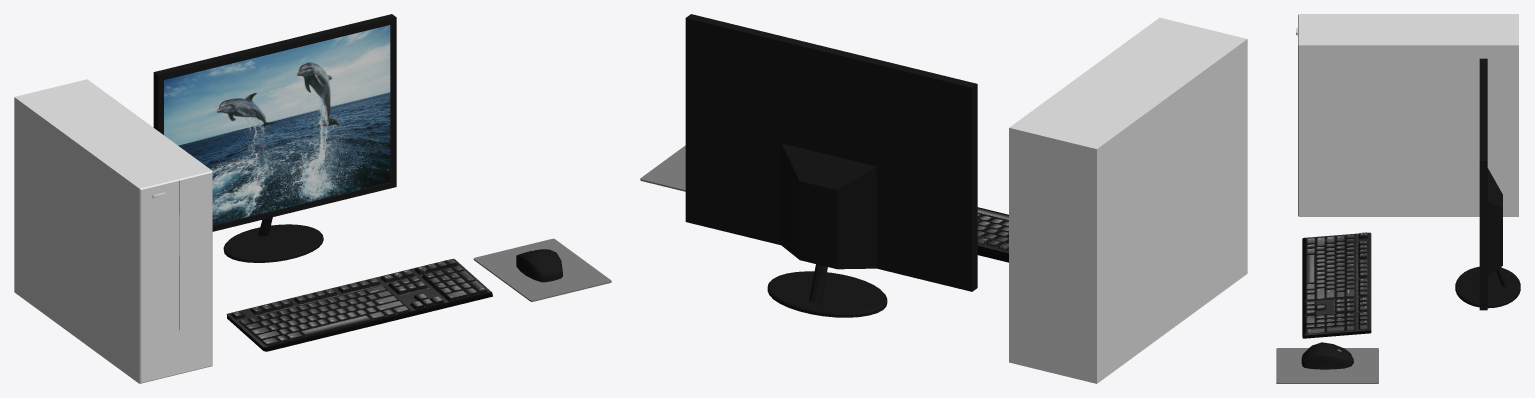
File: desktop_computer.FBX
3 views of the same model, side by side, from view 1: azimuth 30°, elevation 25°; view 2: azimuth 150°, elevation 25°; view 3: azimuth 270°, elevation 25° (orthographic). The views are drawn at different scales.
Visible parts, largest first — view 1: pc, monitor, keyboard, mousepad, mouse; view 2: pc, monitor, keyboard, mousepad; view 3: pc, keyboard, monitor, mousepad, mouse.
Boxes of the visible parts, x1,y1,x2,y2 form: pc: (14,79,212,383); monitor: (153,14,396,262); keyboard: (226,258,492,351); mousepad: (473,238,611,301); mouse: (516,249,562,282); pc: (1009,17,1247,383); monitor: (685,14,977,317); keyboard: (977,207,1008,262); mousepad: (640,145,685,191); pc: (1296,14,1518,216); keyboard: (1302,232,1371,338); monitor: (1455,58,1520,310); mousepad: (1276,348,1378,383); mouse: (1301,342,1353,369).
Size of the model in its own units: 90.74 by 38.62 by 47.52.
7 materials, 2 textured.
